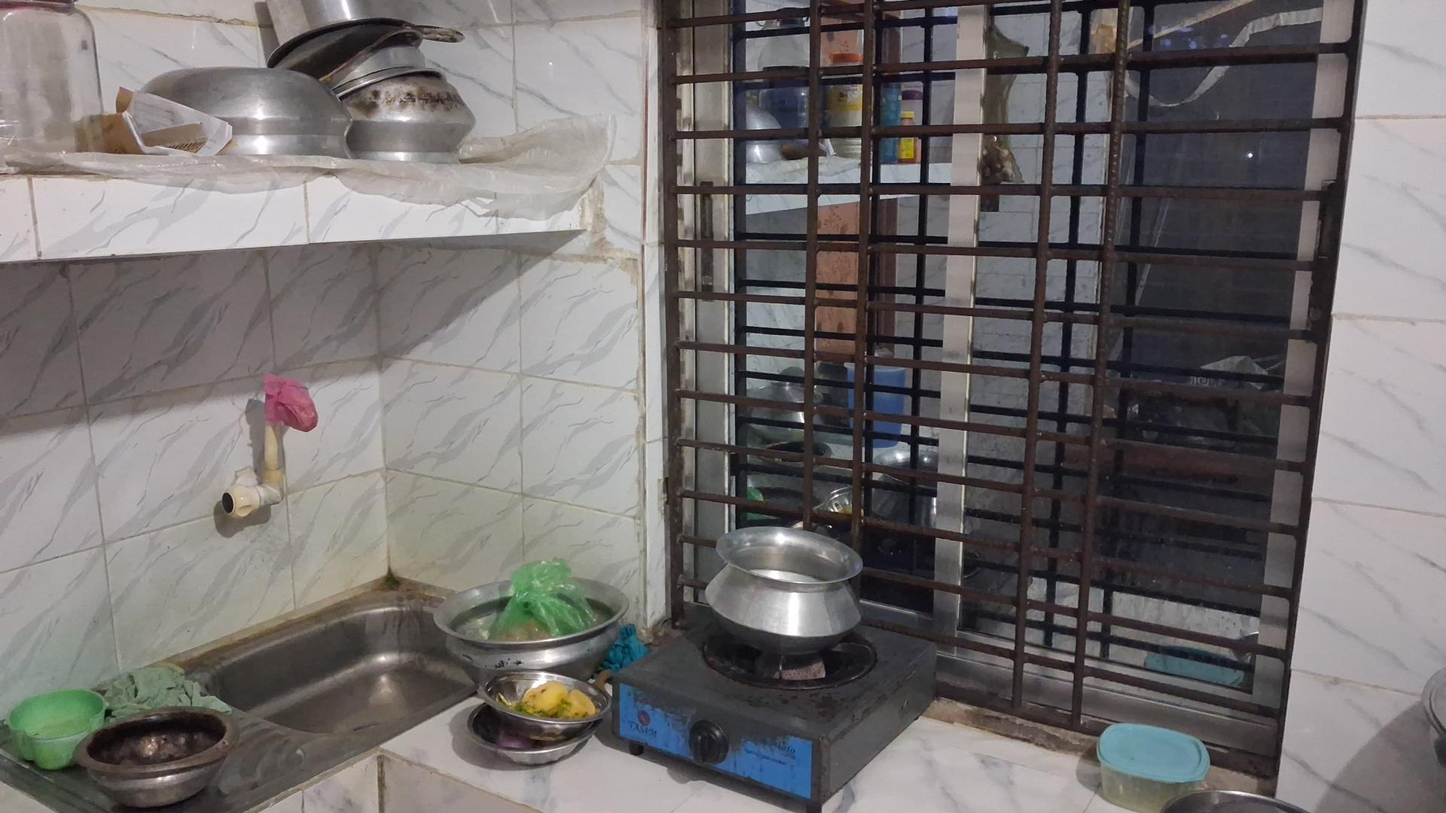Bowl: (76, 708, 233, 808), (479, 668, 611, 745)
Jar: (0, 0, 99, 153), (1094, 721, 1208, 813), (6, 689, 108, 771)
Pot: (126, 69, 354, 167), (432, 575, 629, 682), (704, 529, 865, 652), (342, 69, 475, 165)
